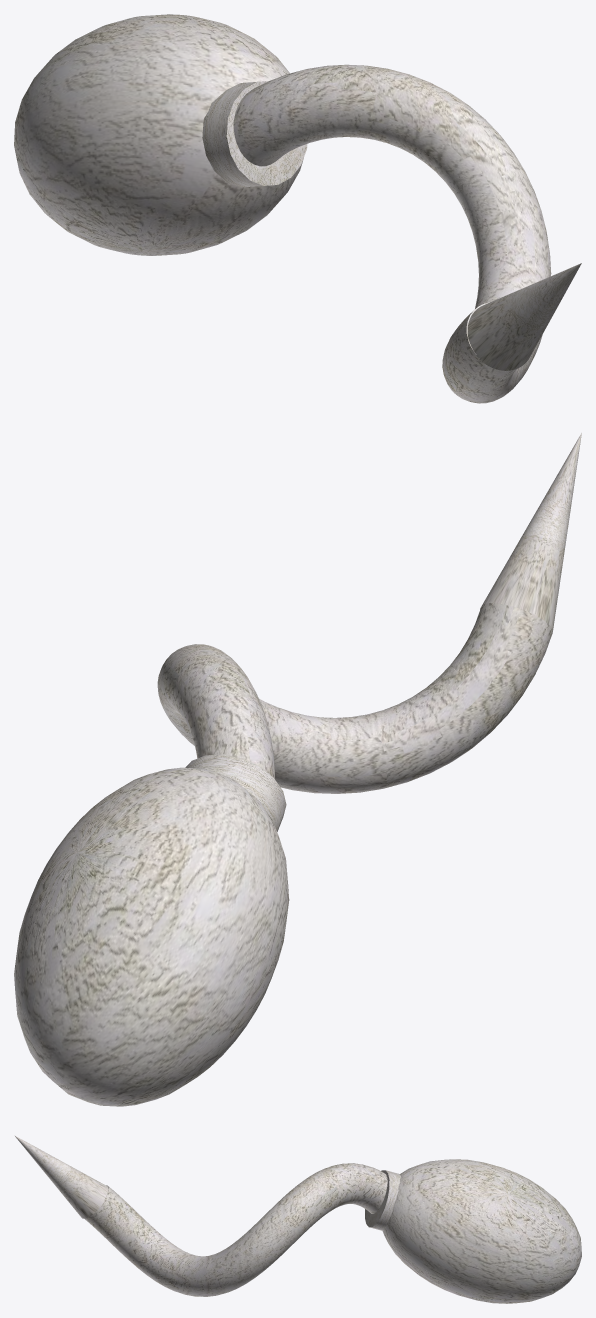
File: sperm.dae
3 renders of one model, top to bottom at view 1: azimuth 30°, elevation 25°; view 2: azimuth 150°, elevation 25°; view 3: azimuth 270°, elevation 25°, orthographic. The views are drawn at different scales.
Parts seen in each view (by area): view 1: Tail; view 2: Tail; view 3: Tail.
Boxes of the visible parts, left/top/right/bottom form: Tail: left=14, top=14, right=581, bottom=403; Tail: left=14, top=433, right=581, bottom=1106; Tail: left=14, top=1135, right=581, bottom=1303.
Size of the model in its own units: 42.26 by 41.82 by 131.
1 material, 1 textured.
